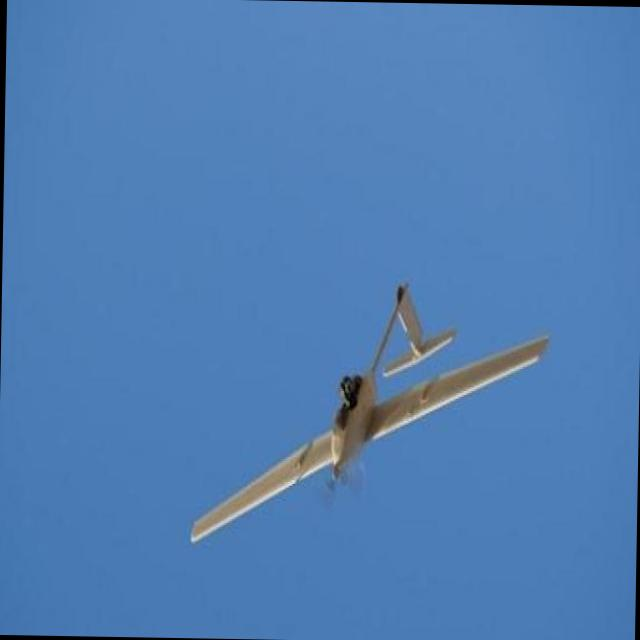UAV: (180, 263, 540, 570)
